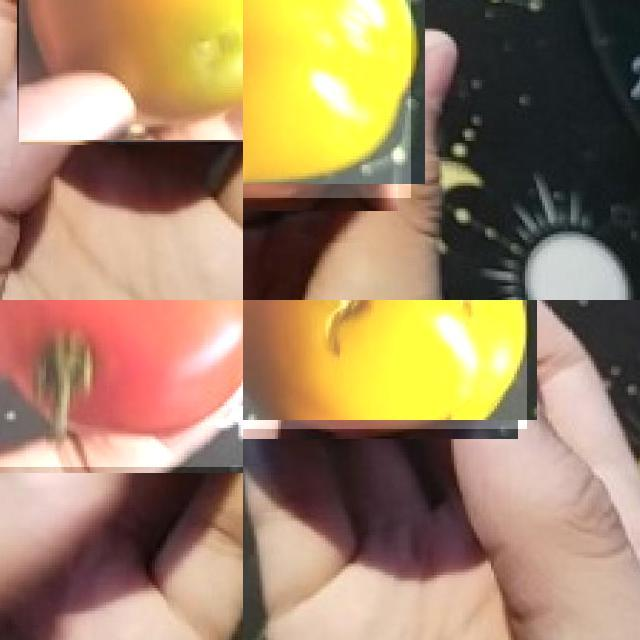Fresh Tomato: (0, 300, 243, 466)
Rotten Tomato: (243, 300, 527, 429), (243, 0, 411, 197), (18, 0, 243, 142)
